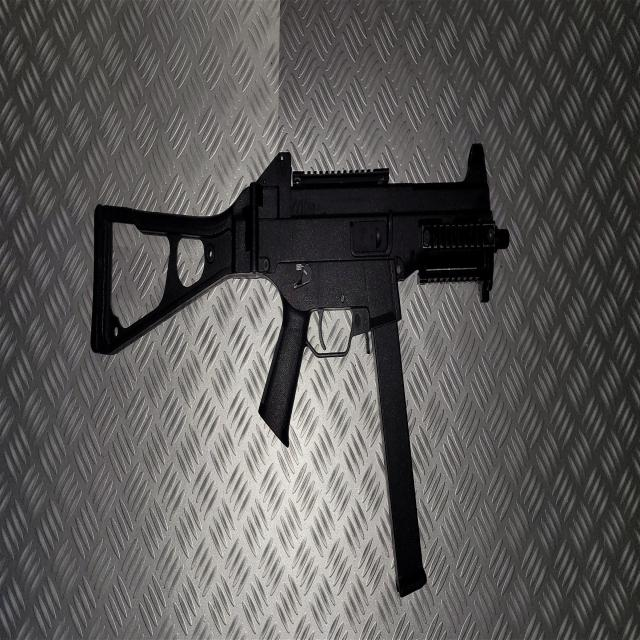SMG: (90, 146, 511, 599)
